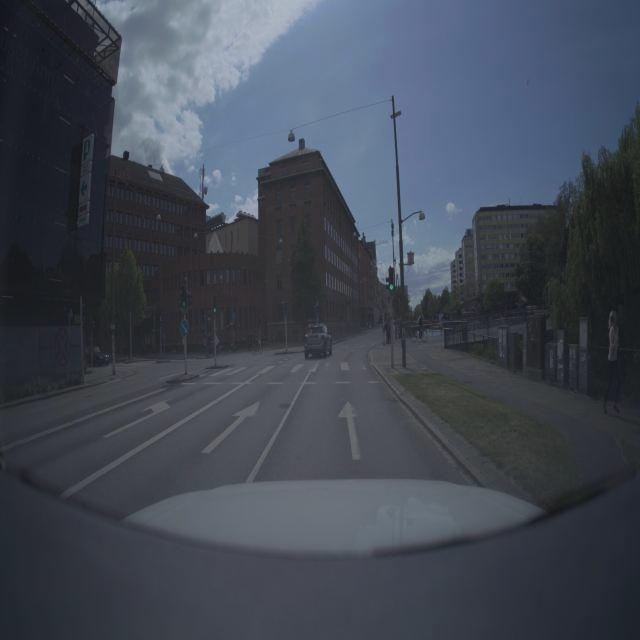Green: (388, 266, 397, 294)
